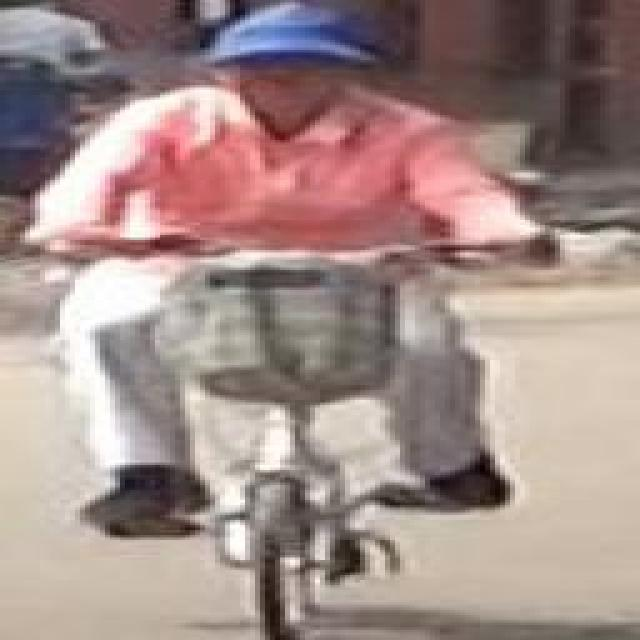adult: (35, 0, 563, 532)
